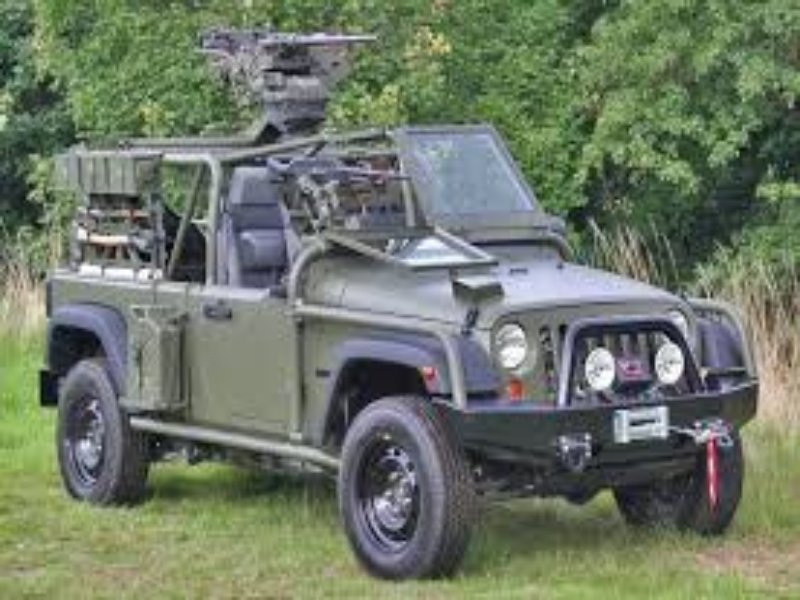jeep: (34, 27, 764, 590)
